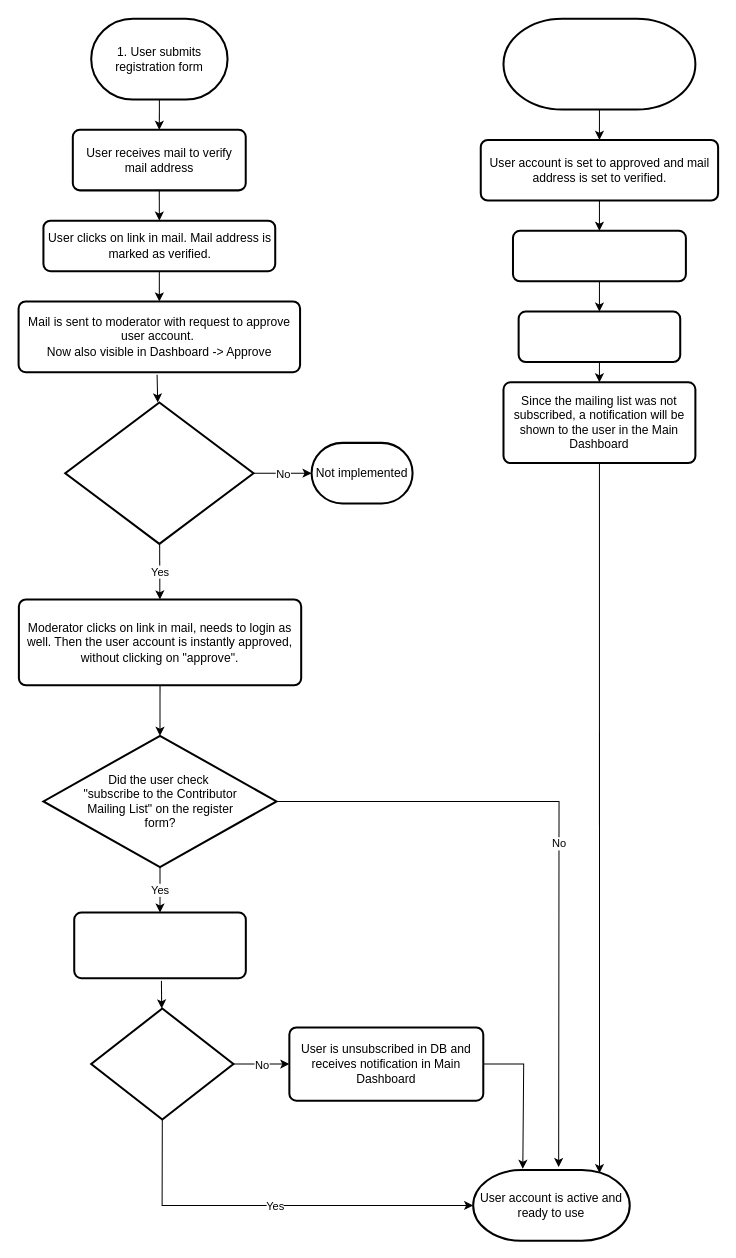
The diagram is 736 pixels wide and 1258 high, and some of its shapes have lost their labels. Each missing label, with the centre of its shape:
"2. Moderator submits Invite User form" goes at (x=599, y=63).
"Moderator decides: should the user be approved?" goes at (x=159, y=472).
"Subscription is submitted to Mailman and result is logged" goes at (x=159, y=945).
"User clicks link and sets password" goes at (x=599, y=336).
"User receives a mail with link to set a password" goes at (x=598, y=255).
"Was submitting successful?" goes at (x=162, y=1063).
